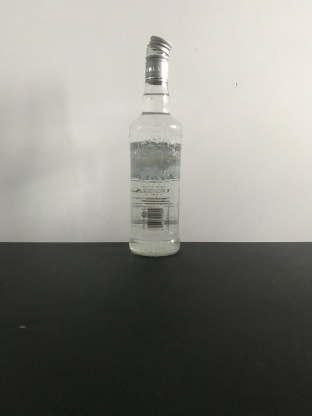nakretka: (143, 32, 173, 85)
